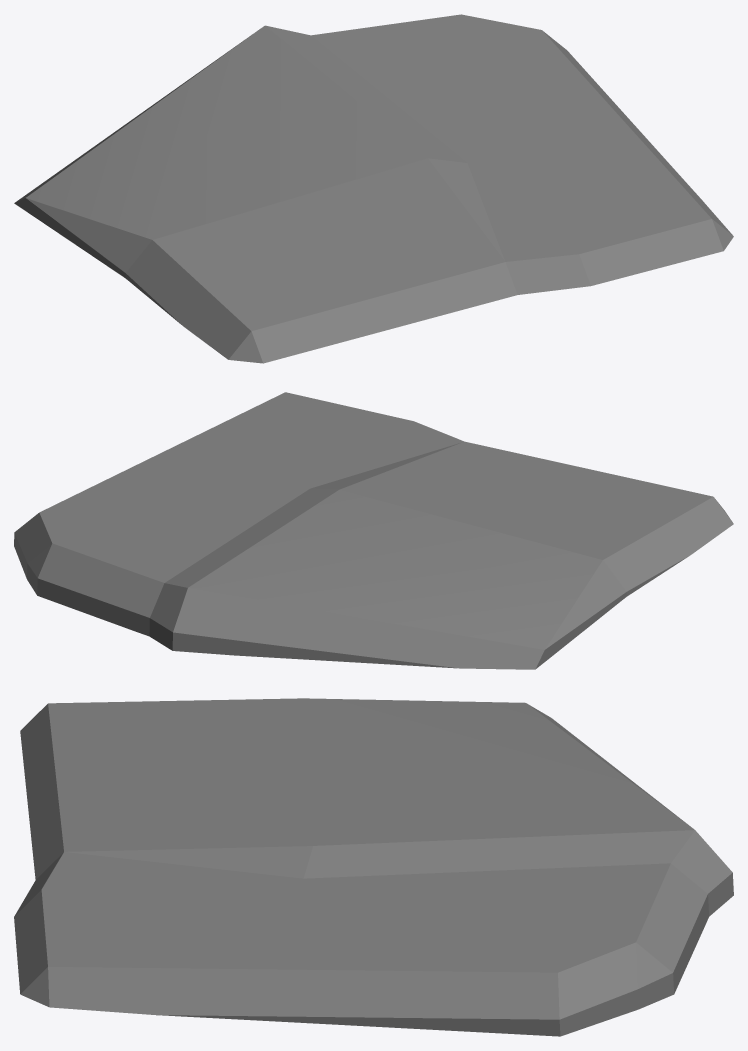
File: model_polytope_pavement02.fbx
The picture shows the model from 3 angles, top to bottom: view 1: azimuth 30°, elevation 25°; view 2: azimuth 150°, elevation 25°; view 3: azimuth 270°, elevation 25°; orthographic projection. The views are drawn at different scales.
Visible parts, largest first — view 1: model_polytope_pavement02; view 2: model_polytope_pavement02; view 3: model_polytope_pavement02.
Boxes of the visible parts, x1,y1,x2,y2 form: model_polytope_pavement02: [14, 14, 733, 363]; model_polytope_pavement02: [14, 392, 733, 669]; model_polytope_pavement02: [14, 698, 733, 1036].
Size of the model in its own units: 112 by 10.9 by 107.
